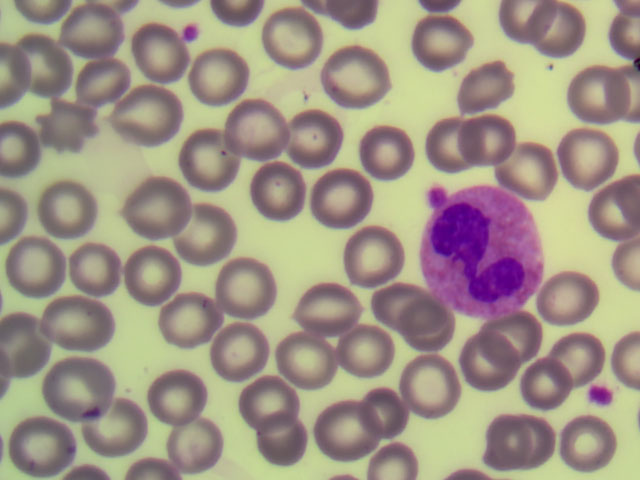Platelets: (178, 19, 211, 46), (584, 380, 611, 404)
RBC: (10, 418, 76, 480), (58, 4, 124, 65), (24, 29, 90, 90), (79, 45, 145, 106), (115, 77, 181, 138), (120, 24, 186, 85), (36, 96, 102, 157), (1, 110, 67, 171), (37, 176, 103, 237), (4, 234, 70, 295), (56, 238, 122, 299), (117, 242, 183, 303), (168, 196, 234, 257), (125, 171, 191, 232), (175, 126, 241, 187), (225, 99, 291, 160), (275, 103, 341, 164), (242, 161, 308, 222), (309, 163, 375, 224), (356, 119, 422, 180), (317, 48, 383, 109), (262, 11, 328, 72), (180, 43, 246, 104), (151, 289, 217, 350), (210, 254, 276, 315), (215, 314, 281, 375), (240, 369, 306, 430), (247, 403, 313, 464), (169, 412, 235, 473), (147, 365, 213, 426), (90, 397, 156, 458), (48, 358, 114, 419), (44, 290, 110, 351), (8, 310, 74, 371), (275, 328, 341, 389), (296, 276, 362, 337), (324, 321, 390, 382), (346, 227, 412, 288), (365, 273, 431, 334), (392, 306, 458, 367), (398, 349, 464, 410), (360, 374, 426, 435), (308, 399, 374, 460), (475, 417, 541, 478), (506, 411, 572, 472), (558, 414, 624, 475), (511, 348, 577, 409), (555, 321, 621, 382), (543, 273, 609, 334), (495, 315, 561, 376), (457, 338, 523, 399), (571, 178, 637, 239), (550, 128, 616, 189), (498, 142, 564, 203), (458, 116, 524, 177), (425, 109, 491, 170), (452, 63, 518, 124), (528, 13, 594, 74), (563, 56, 629, 117), (412, 12, 478, 73), (490, 1, 546, 49)
WBC: (417, 183, 554, 318)
